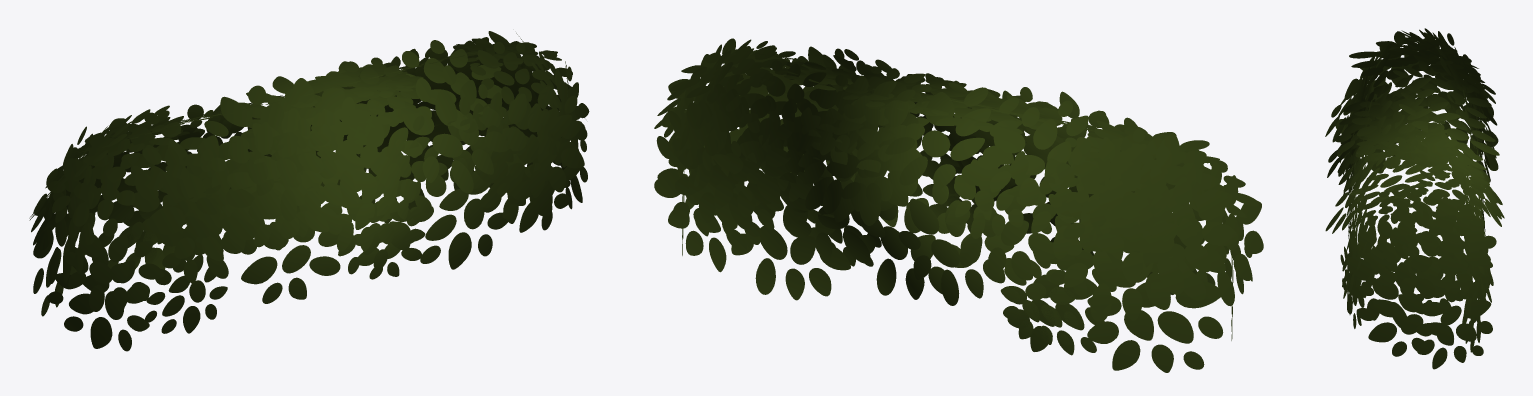
File: bush_small.glb
3 views of the same model, side by side, from view 1: azimuth 30°, elevation 25°; view 2: azimuth 150°, elevation 25°; view 3: azimuth 270°, elevation 25° (orthographic). The views are drawn at different scales.
Visible parts, largest first — view 1: Bush_Small2; view 2: Bush_Small2; view 3: Bush_Small2.
Boxes of the visible parts, left/top/right/bottom form: Bush_Small2: left=29, top=31, right=589, bottom=351; Bush_Small2: left=654, top=38, right=1263, bottom=372; Bush_Small2: left=1325, top=28, right=1504, bottom=369.
Size of the model in its own units: 1.9 by 0.7784 by 0.7238.
Materials: 1 (1 with a texture image).
